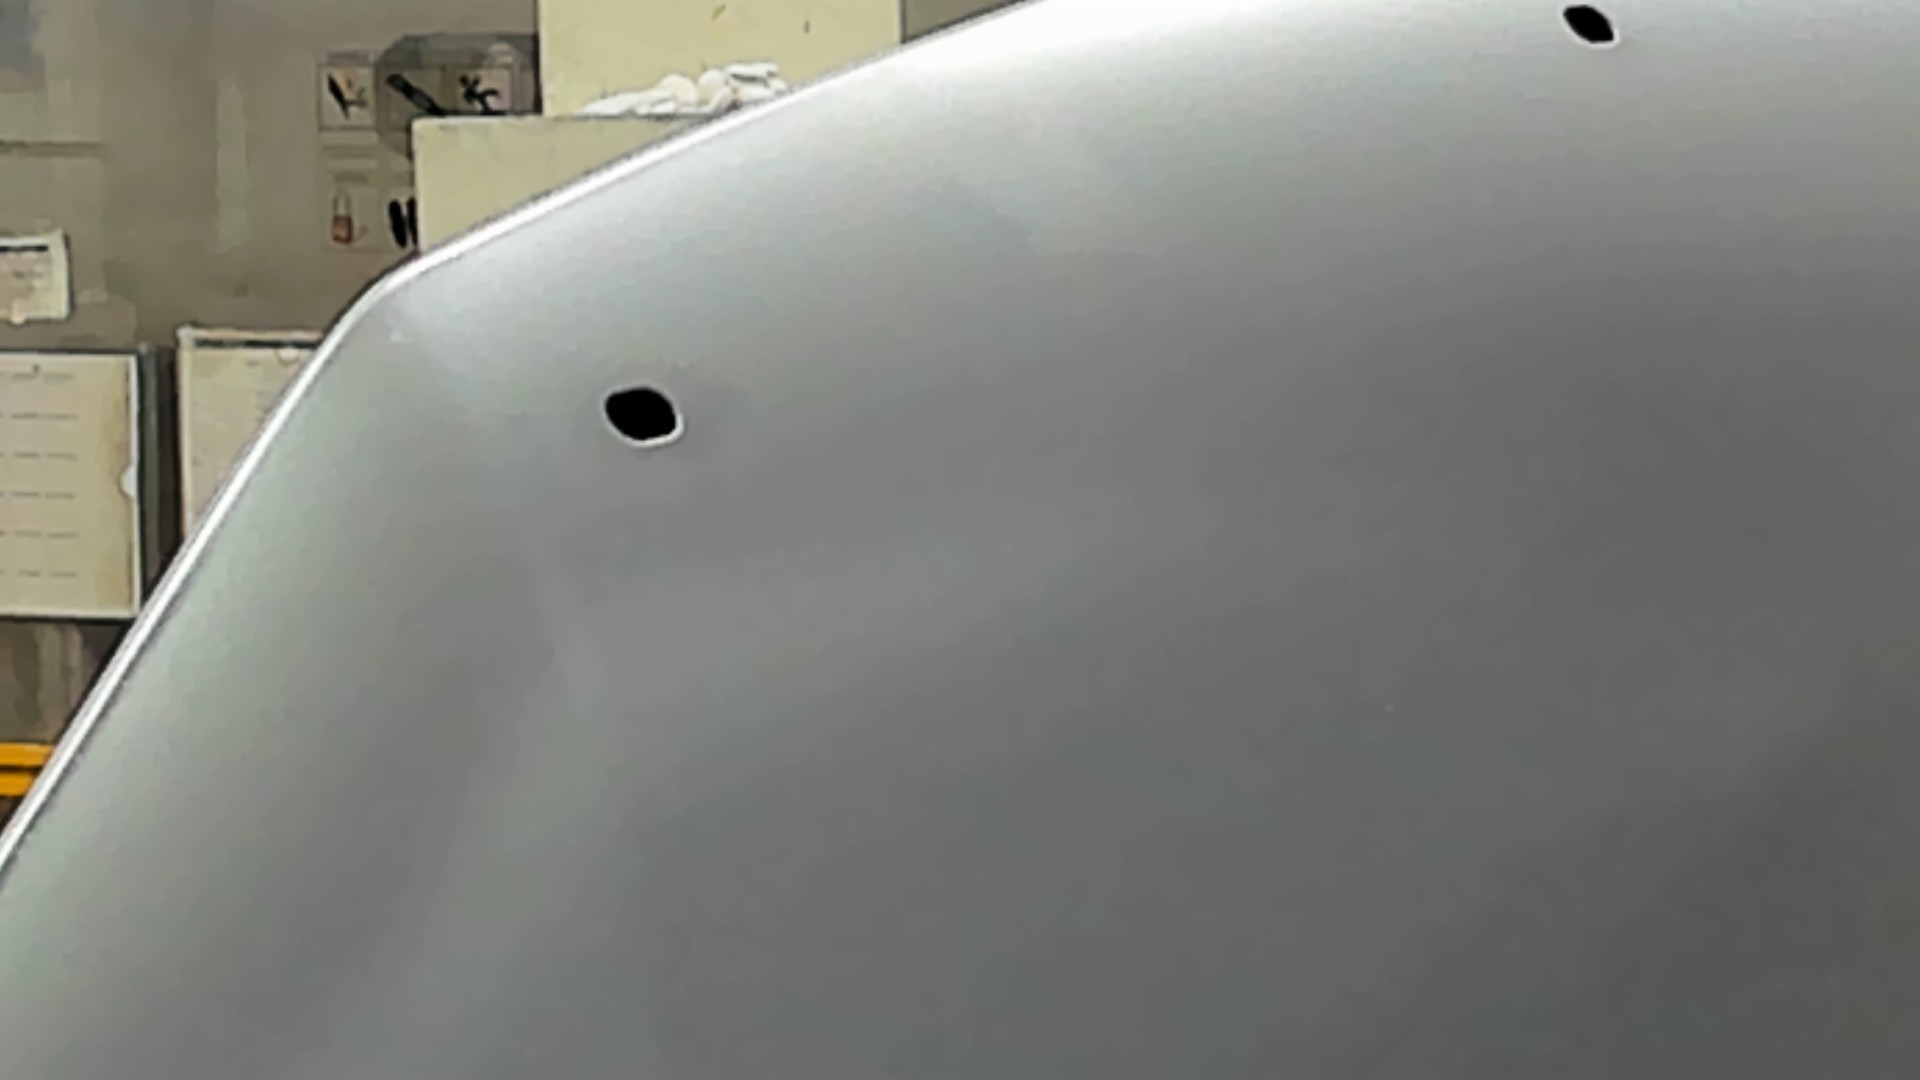amorfo: (587, 376, 698, 454), (1553, 1, 1619, 47)
capo: (804, 109, 1920, 1080)
